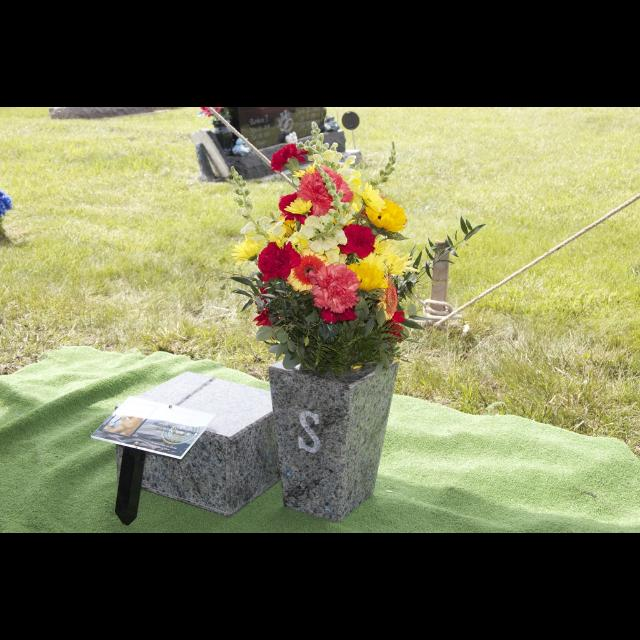Flower: (233, 162, 411, 344), (270, 142, 308, 174), (292, 256, 324, 286), (200, 108, 222, 119)
